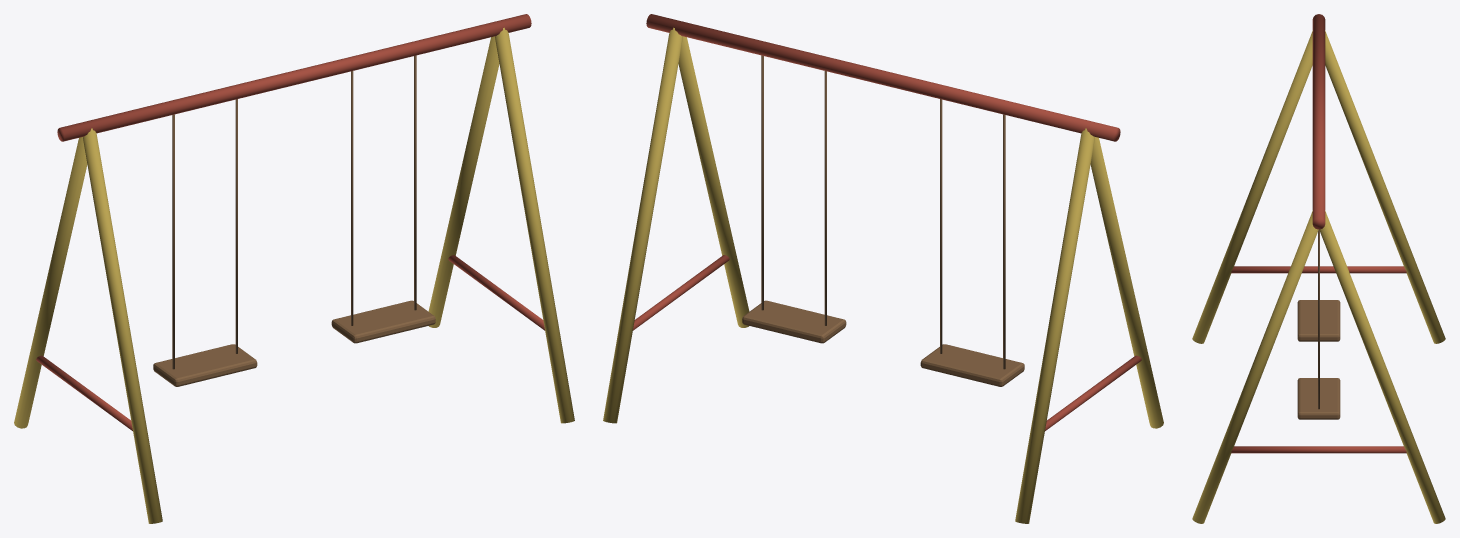
File: SM_District_Swing.fbx
3 views of the same model, side by side, from view 1: azimuth 30°, elevation 25°; view 2: azimuth 150°, elevation 25°; view 3: azimuth 270°, elevation 25° (orthographic). The views are drawn at different scales.
Parts seen in each view (by area): view 1: SM_District_Swing; view 2: SM_District_Swing; view 3: SM_District_Swing.
Boxes of the visible parts, x1,y1,x2,y2 form: SM_District_Swing: (14,14,574,523); SM_District_Swing: (603,14,1163,523); SM_District_Swing: (1192,14,1445,523).
Size of the model in its own units: 340 by 178 by 246.
